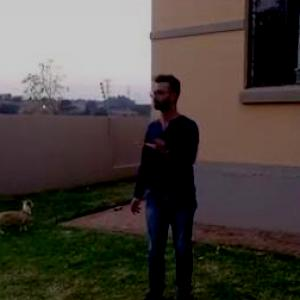land_hand: (143, 121, 175, 161)
